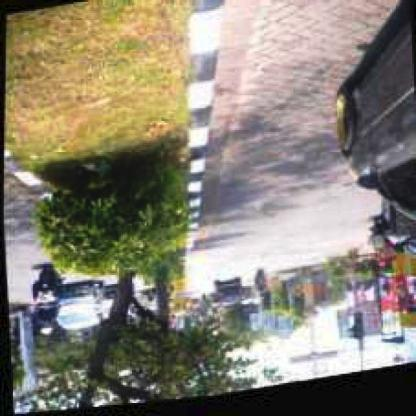Traffic Light -Yellow-: (354, 318, 364, 347)
